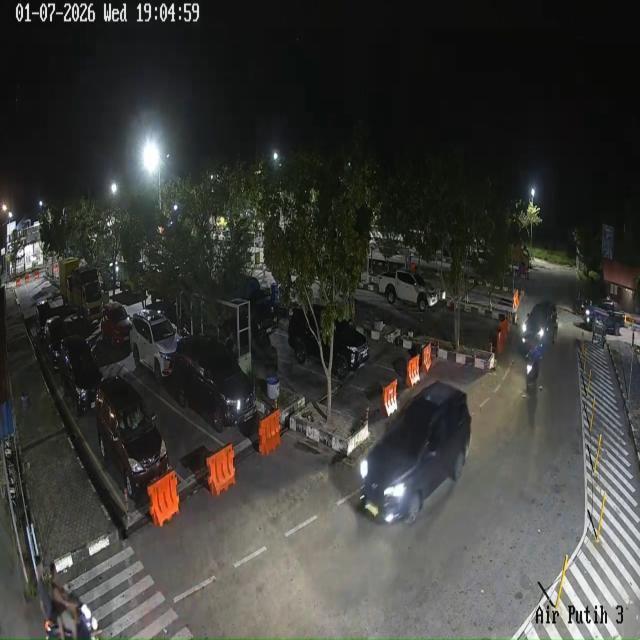Golongan IVA: (360, 381, 471, 524), (96, 376, 168, 500), (172, 336, 256, 433), (288, 304, 369, 380), (130, 309, 178, 384), (60, 334, 103, 416), (520, 301, 558, 353), (43, 316, 68, 370), (101, 302, 131, 346), (36, 300, 54, 339)
Golongan IVB: (378, 270, 438, 311)
Golongan VB: (59, 258, 108, 323)
